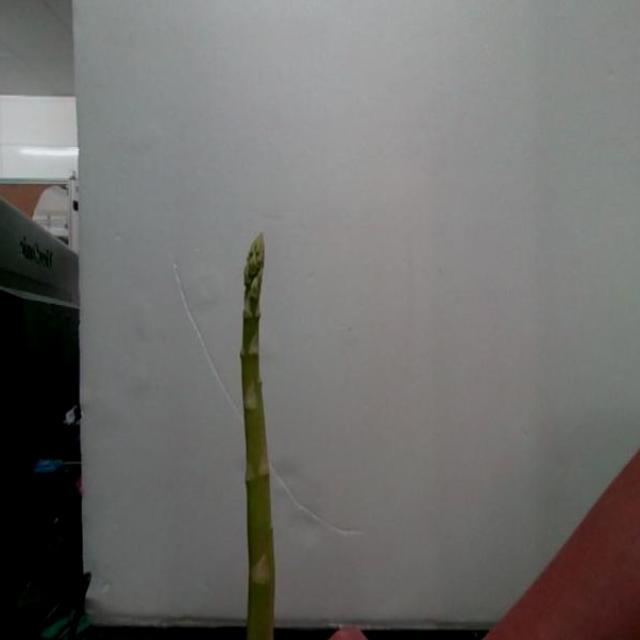aspargus: (238, 234, 275, 640)
